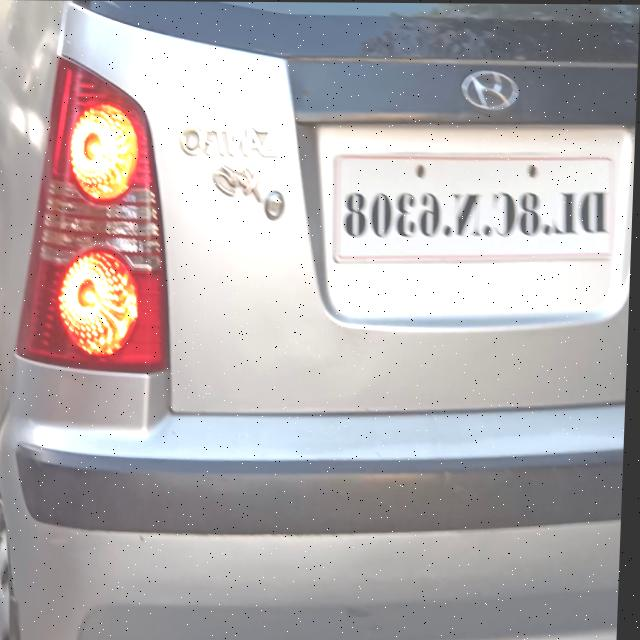plate: (333, 152, 617, 266)
